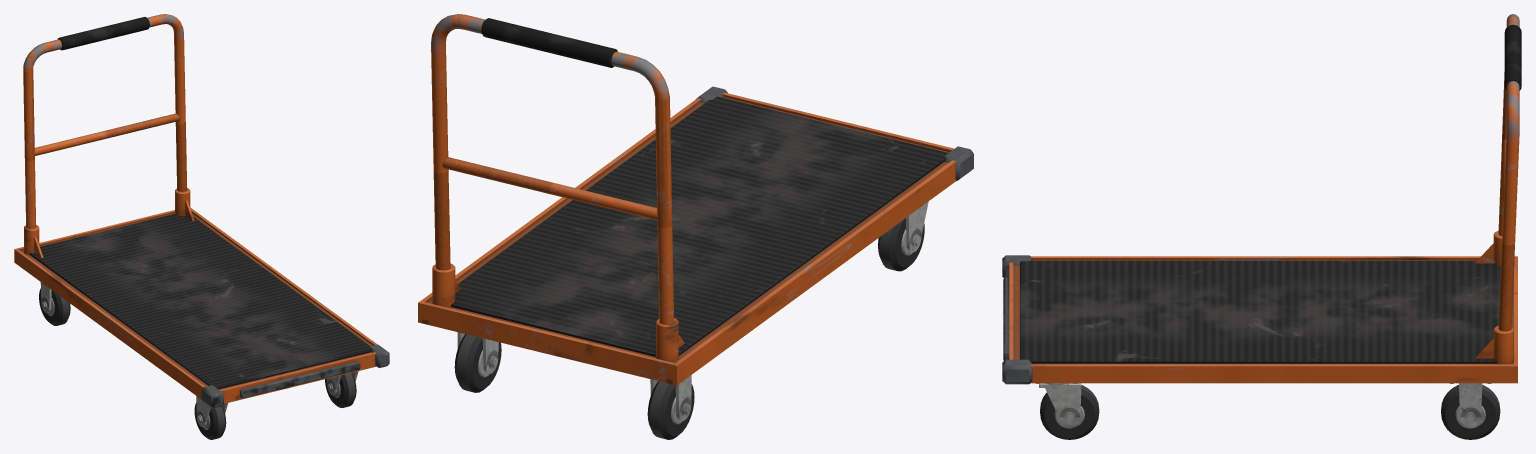
File: Cart.fbx
The picture shows the model from 3 angles, left to right: view 1: azimuth 30°, elevation 25°; view 2: azimuth 150°, elevation 25°; view 3: azimuth 270°, elevation 25°; orthographic projection. The views are drawn at different scales.
Parts seen in each view (by area): view 1: Cart, CartWheelFL, CartWheelFR, CartWheelBR; view 2: Cart, CartWheelBR, CartWheelBL, CartWheelFR, CartForkR; view 3: Cart, CartWheelBL, CartWheelFL, CartForkL.
Part boxes in pixels (left/top/right/bottom): Cart: left=14, top=14, right=389, bottom=408; CartWheelFL: left=325, top=372, right=356, bottom=407; CartWheelFR: left=194, top=403, right=226, bottom=439; CartWheelBR: left=39, top=288, right=70, bottom=325; Cart: left=418, top=14, right=973, bottom=420; CartWheelBR: left=647, top=381, right=694, bottom=439; CartWheelBL: left=454, top=334, right=501, bottom=392; CartWheelFR: left=878, top=218, right=924, bottom=271; CartForkR: left=906, top=201, right=928, bottom=252; Cart: left=1002, top=14, right=1521, bottom=426; CartWheelBL: left=1441, top=385, right=1500, bottom=439; CartWheelFL: left=1040, top=385, right=1099, bottom=439; CartForkL: left=1039, top=383, right=1081, bottom=426.
Size of the model in its own units: 2.25 by 3.22 by 4.39.
1 material, 1 textured.
